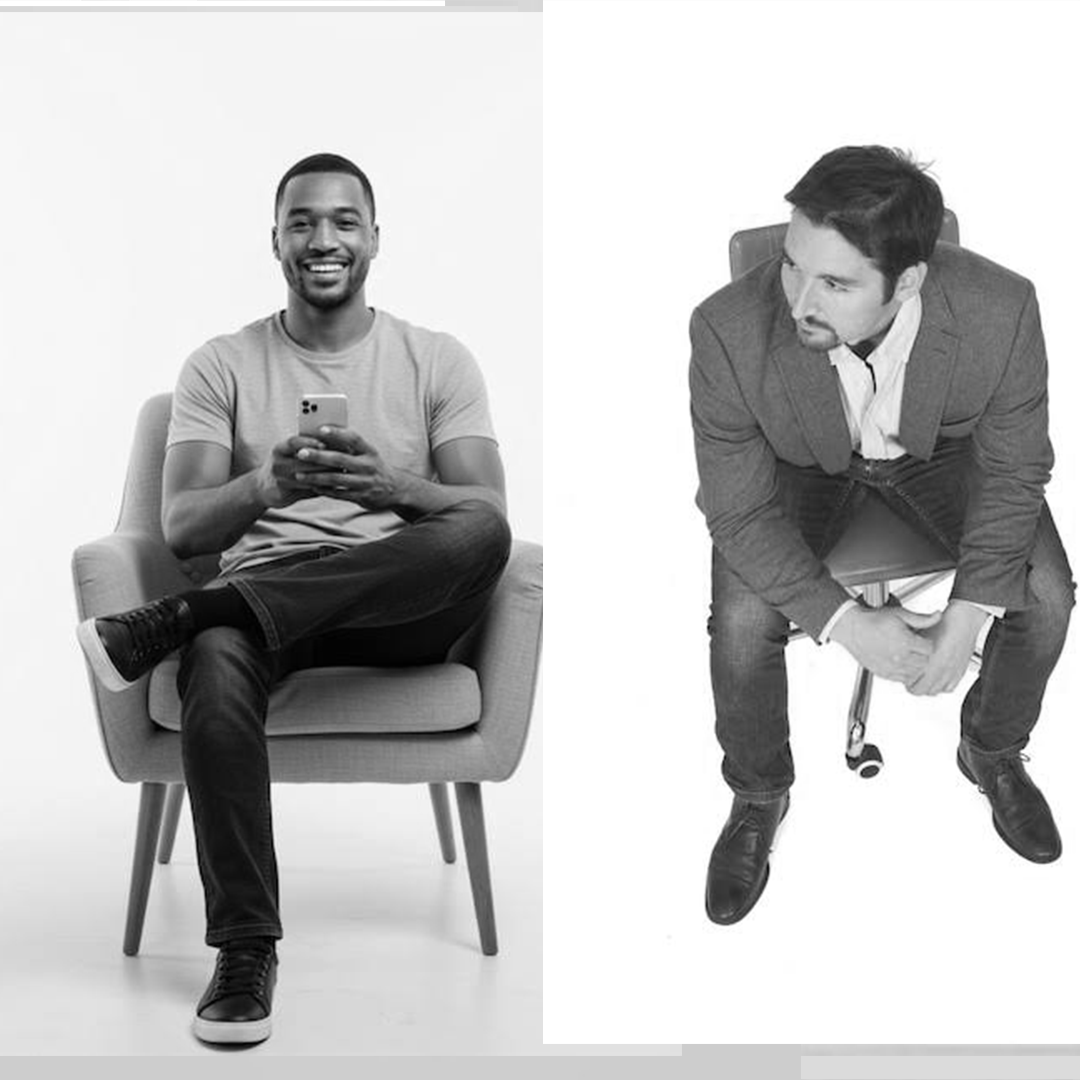Focused: (159, 100, 440, 509)
distracted: (696, 76, 981, 547)
